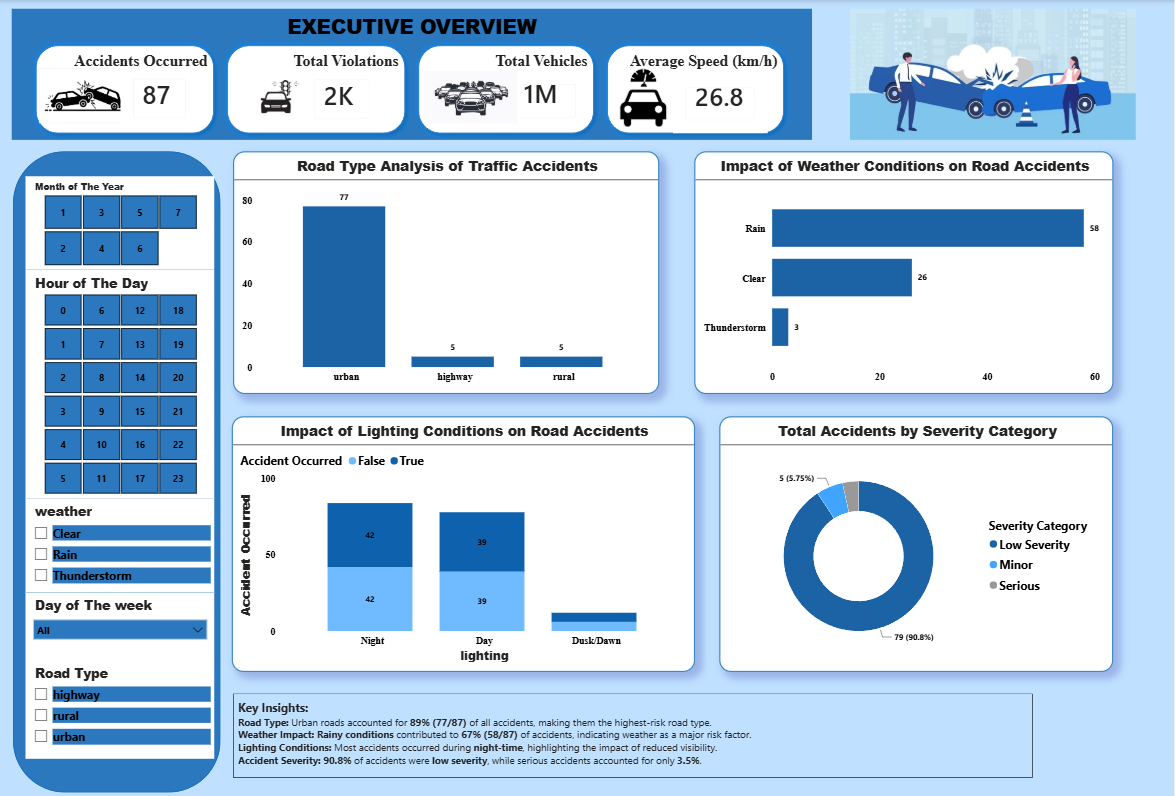

The dashboard page shown, as its layout file describes it:
{"tool":"powerbi","page":{"name":"Summary","canvas":[1600,1100],"ordinal":0},"visuals":[{"type":"textbox","box":[18.7,11.9,1088.4,178.6],"z":0},{"type":"shape","box":[42.5,52.7,260.2,137.8],"z":1000},{"type":"image","box":[56.1,90.1,131,79.9],"z":2000},{"type":"cardVisual","fields":{"Data":["road_accidents.Total Accidents"]},"box":[165.9,90.3,106.9,88.5],"z":3000},{"type":"shape","box":[302.7,52.7,260.2,137.8],"z":4000},{"type":"cardVisual","fields":{"Data":["road_accidents.Total Violations"]},"box":[418.4,95.8,99.5,79.3],"z":5000},{"type":"shape","box":[562.9,52.7,256.8,137.8],"z":6000},{"type":"shape","box":[819.7,52.7,258.5,137.8],"z":7000},{"type":"cardVisual","fields":{"Data":["road_accidents.Total Vehicles"]},"box":[691.2,101.4,108.7,70],"z":8000},{"type":"cardVisual","fields":{"Data":["road_accidents.Avg Speed"]},"box":[917.9,101.4,129,79.3],"z":9000},{"type":"image","box":[320.7,94,112.4,77.4],"z":10000},{"type":"image","box":[579.9,95.2,127.6,74.8],"z":11000},{"type":"image","box":[838.6,92.2,79.3,82.9],"z":12000},{"type":"clusteredBarChart","title":"Impact of Weather Conditions on Road Accidents","fields":{"Category":["road_accidents.weather"],"Y":["road_accidents.Total Accidents"]},"box":[948,206,570,330],"z":13000},{"type":"clusteredColumnChart","title":"Road Type Analysis of Traffic Accidents","fields":{"Category":["road_accidents.road_type"],"Y":["road_accidents.Total Accidents"]},"box":[320,206,580,330],"z":14000},{"type":"image","box":[1107.1,11.9,493.2,178.6],"z":15000},{"type":"shape","box":[20.4,205.8,282.3,872.5],"z":16000},{"type":"slicer","fields":{"Values":["road_accidents.hour_of_day"]},"box":[37.4,367.3,256.8,311.2],"z":17000},{"type":"slicer","fields":{"Values":["road_accidents.weather"]},"box":[37.4,678.6,256.8,127.6],"z":18000},{"type":"slicer","fields":{"Values":["road_accidents.road_type"]},"box":[37.4,898,256.8,134.4],"z":19000},{"type":"slicer","fields":{"Values":["road_accidents.day_of_week"]},"box":[37.4,806.1,256.8,91.8],"z":20000},{"type":"slicer","fields":{"Values":["road_accidents.month"]},"box":[37.4,239.8,256.8,127.6],"z":21000},{"type":"donutChart","fields":{"Category":["road_accidents.Severity Category"],"Y":["road_accidents.Total Accidents"]},"box":[982,566,536,348],"z":22000},{"type":"columnChart","title":"Impact of Lighting Conditions on Road Accidents","fields":{"Category":["road_accidents.lighting"],"Y":["road_accidents.Total Accidents"],"Series":["road_accidents.accident_occurred"]},"box":[318,566,630,348],"z":23000},{"type":"textbox","box":[320,944,1088,114],"z":24000}]}

Visuals, with their boxes in screenshot pixels (x1, y1, x2, y2), scaled from the page's 1600x1100 canvas onto the 1175x796 screenshot:
textbox: BBox(14, 9, 813, 138)
shape: BBox(31, 38, 222, 138)
image: BBox(41, 65, 137, 123)
cardVisual - road_accidents.Total Accidents: BBox(122, 65, 200, 129)
shape: BBox(222, 38, 413, 138)
cardVisual - road_accidents.Total Violations: BBox(307, 69, 380, 127)
shape: BBox(413, 38, 602, 138)
shape: BBox(602, 38, 792, 138)
cardVisual - road_accidents.Total Vehicles: BBox(508, 73, 587, 124)
cardVisual - road_accidents.Avg Speed: BBox(674, 73, 769, 131)
image: BBox(236, 68, 318, 124)
image: BBox(426, 69, 520, 123)
image: BBox(616, 67, 674, 127)
"Impact of Weather Conditions on Road Accidents" clusteredBarChart: BBox(696, 149, 1115, 388)
"Road Type Analysis of Traffic Accidents" clusteredColumnChart: BBox(235, 149, 661, 388)
image: BBox(813, 9, 1174, 138)
shape: BBox(15, 149, 222, 780)
slicer - road_accidents.hour_of_day: BBox(27, 266, 216, 491)
slicer - road_accidents.weather: BBox(27, 491, 216, 583)
slicer - road_accidents.road_type: BBox(27, 650, 216, 747)
slicer - road_accidents.day_of_week: BBox(27, 583, 216, 650)
slicer - road_accidents.month: BBox(27, 174, 216, 266)
donutChart - road_accidents.Severity Category x road_accidents.Total Accidents: BBox(721, 410, 1115, 661)
"Impact of Lighting Conditions on Road Accidents" columnChart: BBox(234, 410, 696, 661)
textbox: BBox(235, 683, 1034, 766)
